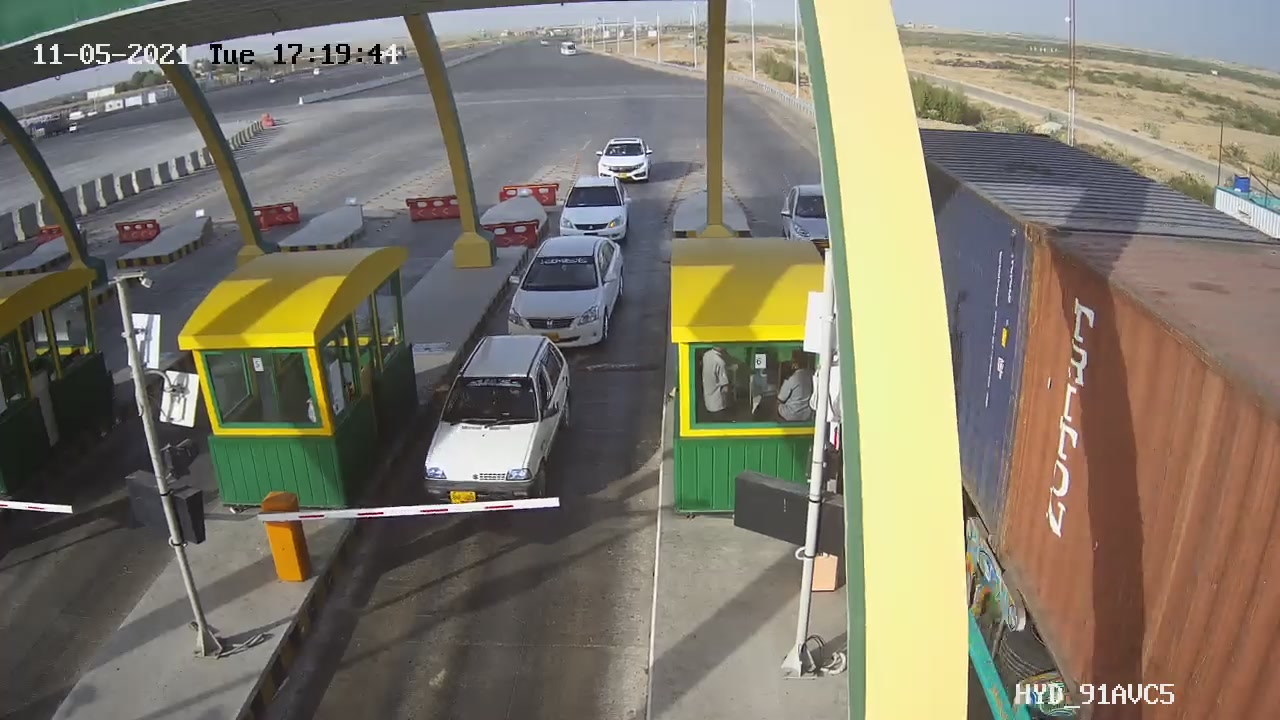F1: (409, 324, 594, 524), (490, 226, 642, 364)
